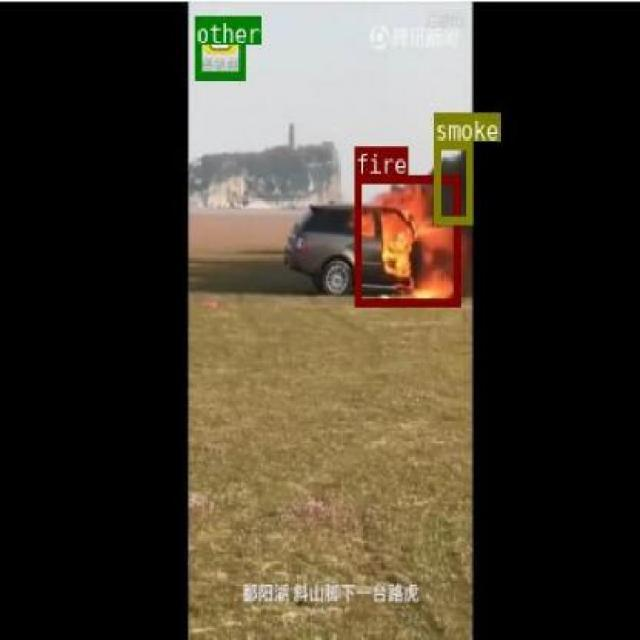Fire: (354, 172, 458, 306)
Smoke: (432, 140, 470, 222)
